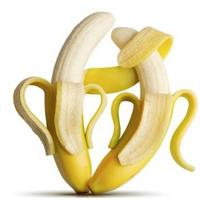banane: (41, 7, 109, 193), (111, 18, 177, 200)
